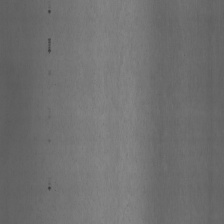oil_spot: (46, 35, 51, 56), (46, 179, 52, 190), (47, 134, 52, 146), (47, 3, 51, 14), (47, 67, 51, 77)
